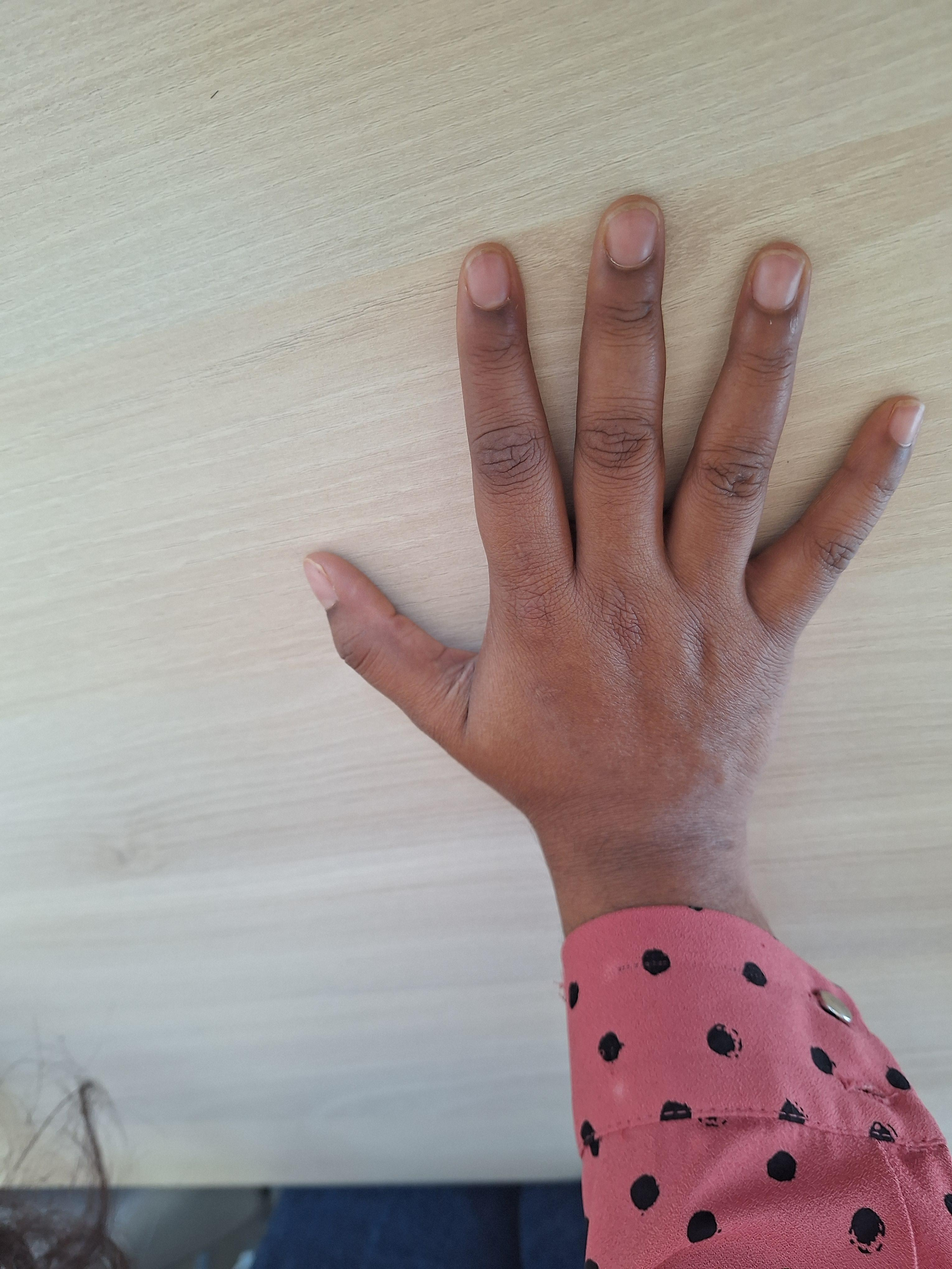Fingernail: (603, 202, 660, 268), (752, 249, 805, 310), (465, 248, 512, 310), (888, 399, 926, 445), (303, 559, 337, 610)
